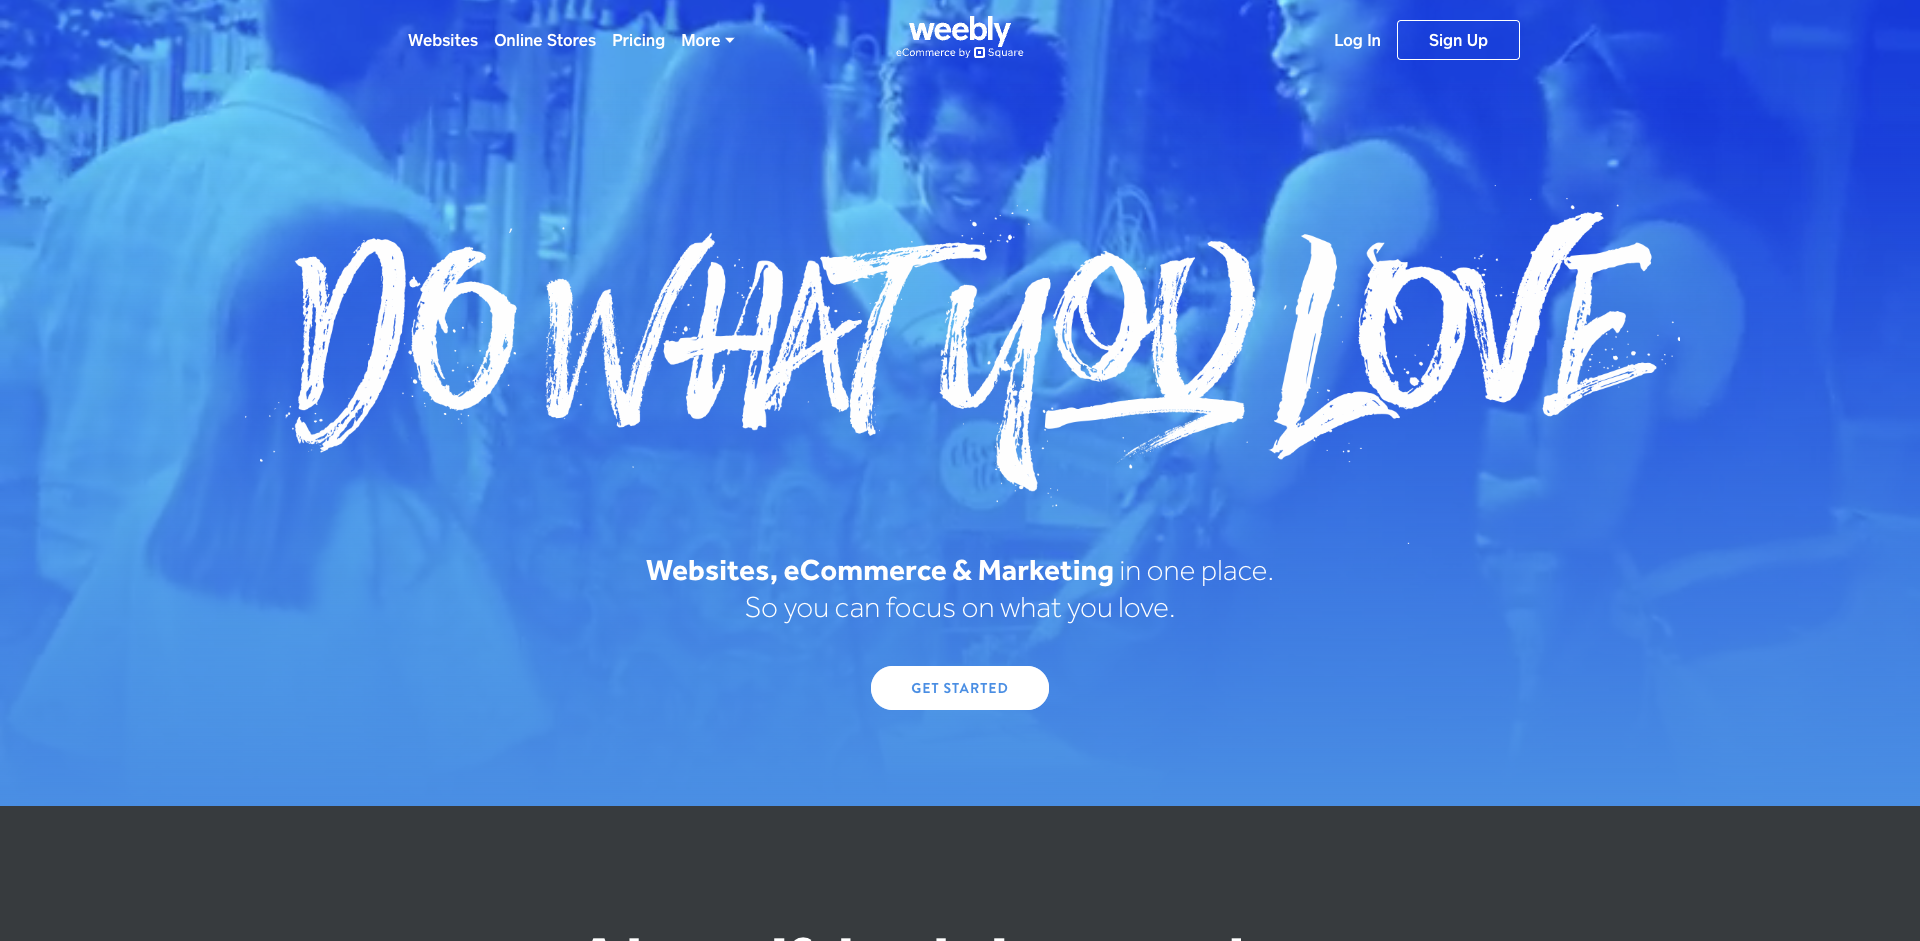button: (240, 665, 1680, 717), (871, 665, 1049, 709), (1397, 20, 1520, 60)
link: (495, 28, 596, 51), (408, 28, 479, 51), (681, 28, 736, 51), (612, 28, 665, 51), (1335, 28, 1381, 51)
